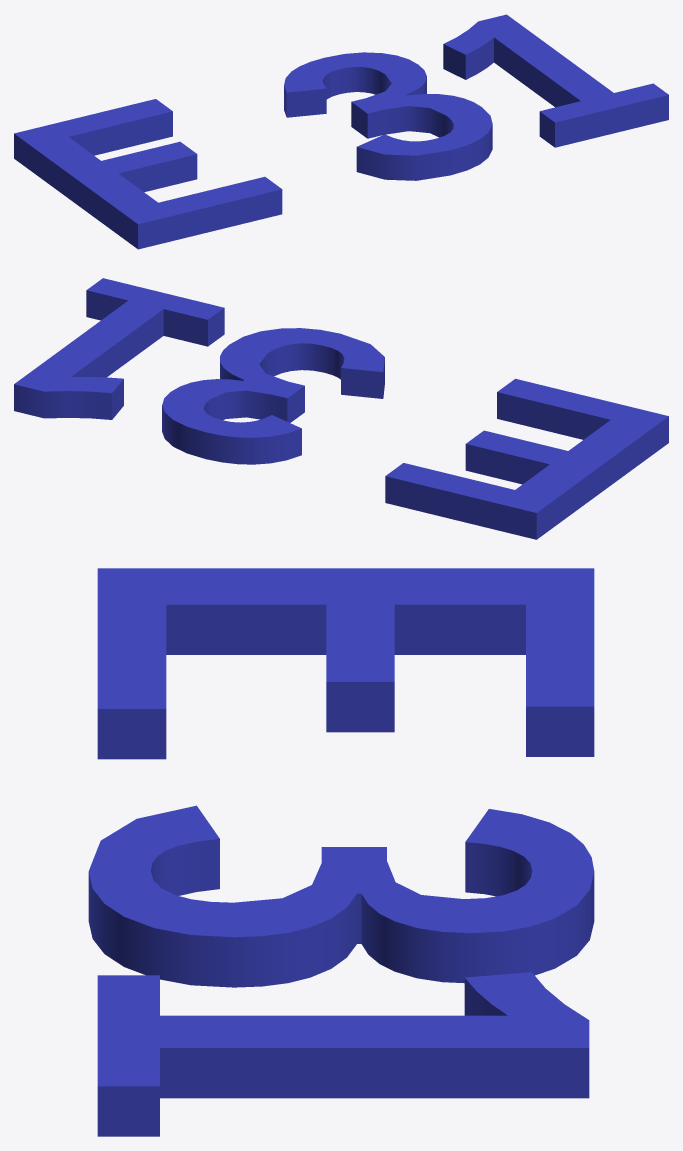
The picture shows the model from 3 angles, top to bottom: view 1: azimuth 30°, elevation 25°; view 2: azimuth 150°, elevation 25°; view 3: azimuth 270°, elevation 25°; orthographic projection. The views are drawn at different scales.
Visible parts, largest first — view 1: node_id44; view 2: node_id44; view 3: node_id44.
Boxes of the visible parts, x1,y1,x2,y2 form: node_id44: [14, 14, 668, 249]; node_id44: [14, 278, 668, 539]; node_id44: [88, 568, 594, 1136].
Bounding box in the file's own units: 0.414 × 0.0188 × 0.1707.
